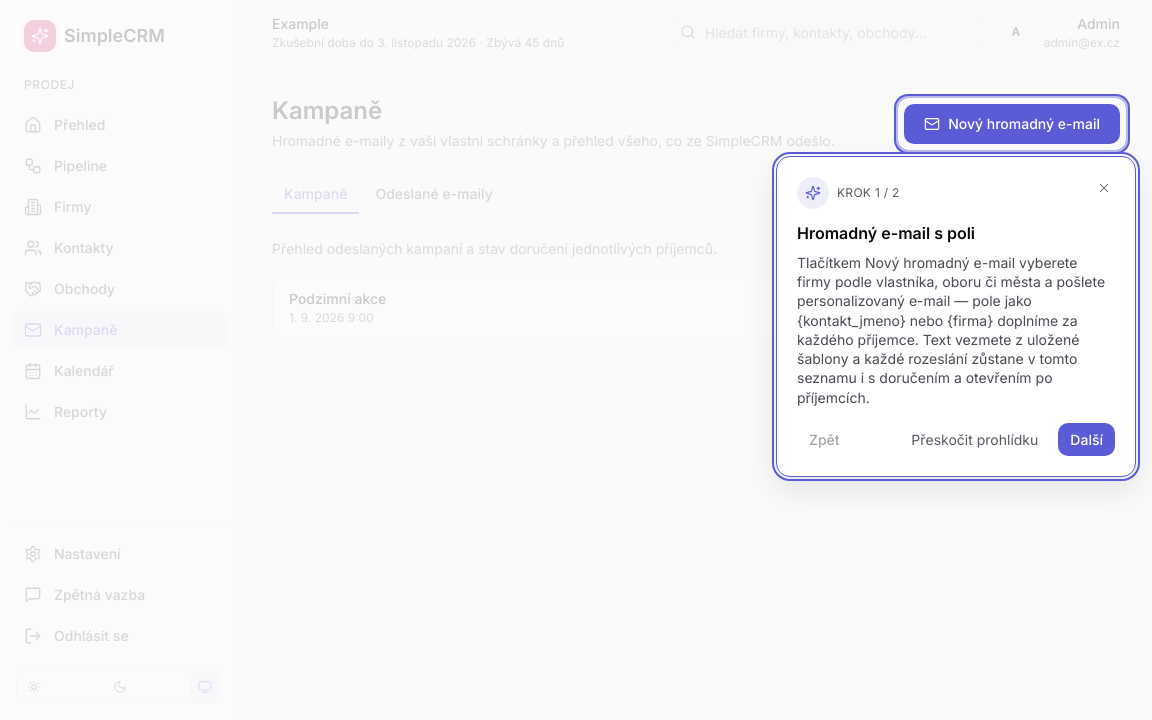
it: Kampaně page › opens on the campaign list with the launch button, and the sent tab is one click away
This screenshot has width=1152, height=720.
Expected: the heading "Kampaně" is shown, x1=272 y1=96 x2=382 y2=125
Expected: the button with test id "campaigns-new-button" is shown, x1=904 y1=104 x2=1120 y2=144
Click the tab with test id "campaigns-tab-sent".
click(434, 194)  # box x1=363 y1=175 x2=505 y2=214
(page scrolled)
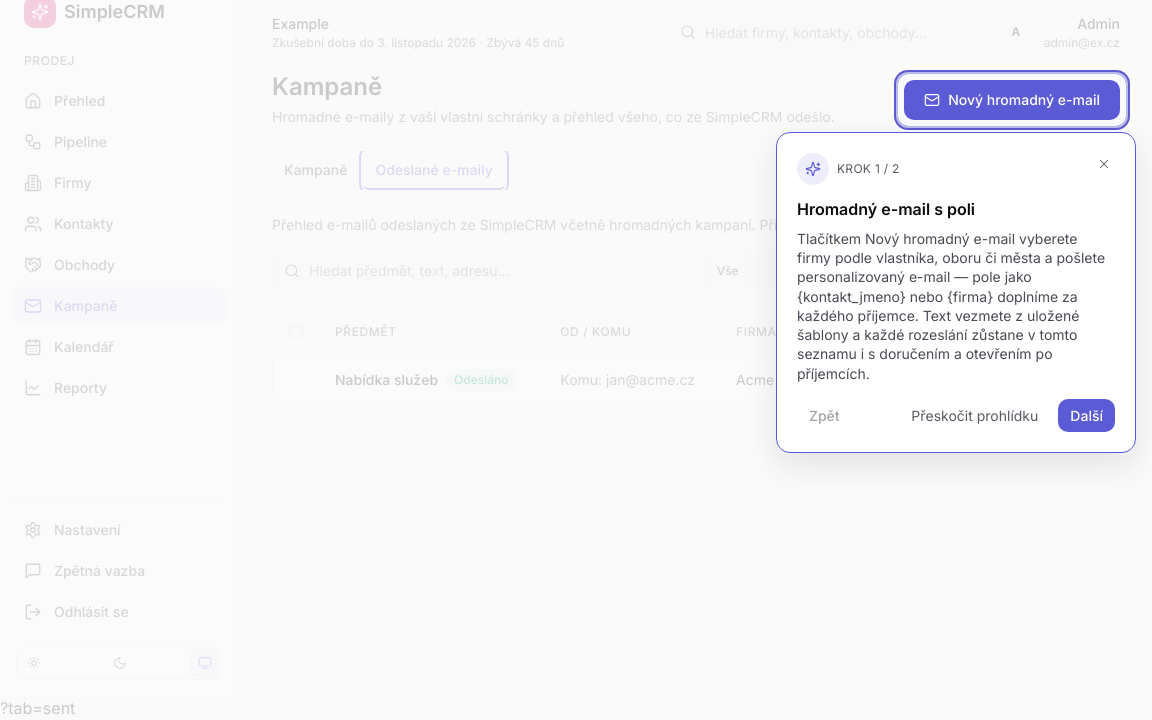
Result: the button "Nabídka služeb" is shown at x1=335 y1=369 x2=438 y2=390
Result: the text with test id "location-probe" shows "tab=sent" at x1=0 y1=698 x2=75 y2=718
